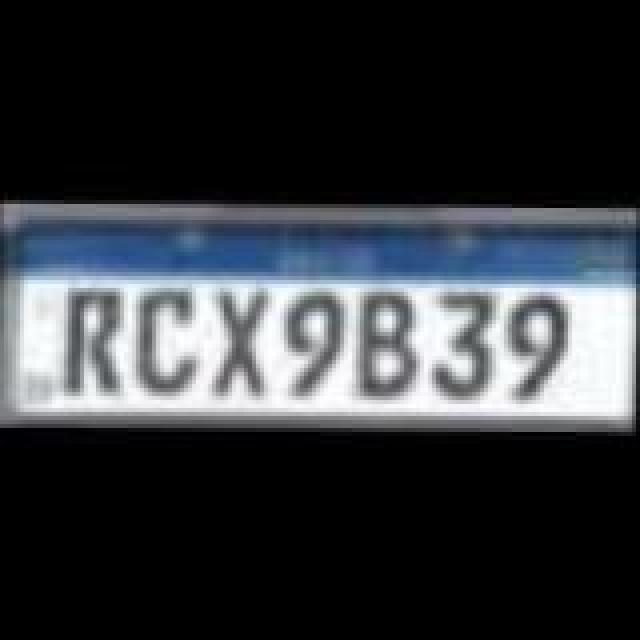3: (430, 288, 494, 400)
9: (500, 284, 576, 404), (284, 290, 336, 402)
B: (358, 288, 422, 408)
C: (128, 284, 196, 400)
R: (60, 282, 128, 398)
X: (208, 278, 276, 402)
